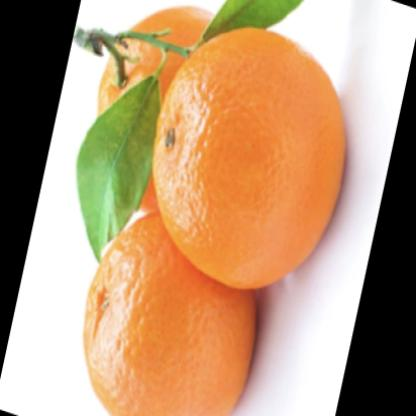fresh: (87, 6, 345, 416)
